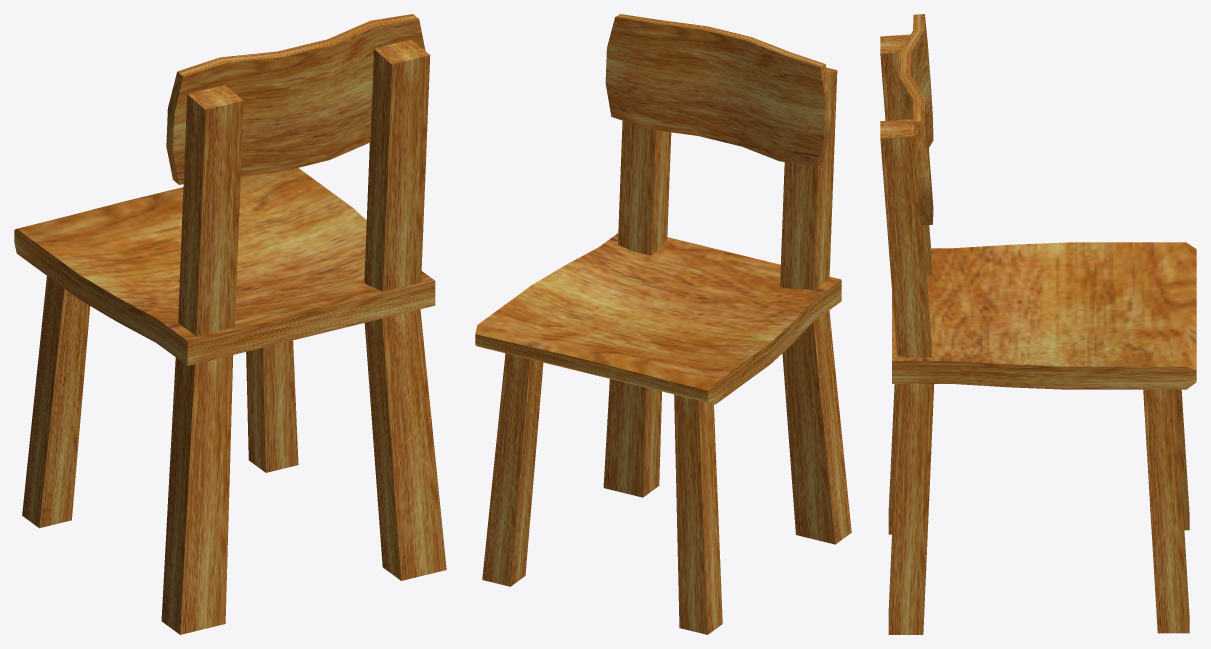
The model's file is stuhl.dae.
3 renders of one model, left to right at view 1: azimuth 30°, elevation 25°; view 2: azimuth 150°, elevation 25°; view 3: azimuth 270°, elevation 25°, orthographic. The views are drawn at different scales.
Parts seen in each view (by area): view 1: Sitzflaeche, Lehne, FussHintenLinks, FussHintenRechts, LehneRechts, LehneLinks, FussVorneLinks, FussVorneRechts; view 2: Sitzflaeche, Lehne, FussHintenLinks, FussVorneLinks, FussVorneRechts, LehneLinks, LehneRechts, FussHintenRechts; view 3: Sitzflaeche, FussHintenRechts, LehneRechts, FussVorneRechts, Lehne, LehneLinks, FussVorneLinks, FussHintenLinks.
Part boxes in pixels (x1,y1,x2,y2): Sitzflaeche: [14, 168, 435, 365]; Lehne: [166, 14, 425, 184]; FussHintenLinks: [161, 355, 233, 634]; FussHintenRechts: [364, 309, 446, 580]; LehneRechts: [364, 39, 430, 291]; LehneLinks: [178, 85, 243, 336]; FussVorneLinks: [22, 276, 90, 528]; FussVorneRechts: [246, 340, 298, 472]; Sitzflaeche: [475, 233, 841, 404]; Lehne: [605, 14, 831, 166]; FussHintenLinks: [782, 310, 851, 544]; FussVorneLinks: [674, 394, 722, 634]; FussVorneRechts: [482, 353, 543, 586]; LehneLinks: [780, 67, 837, 290]; LehneRechts: [618, 121, 671, 255]; FussHintenRechts: [603, 379, 661, 497]; Sitzflaeche: [892, 242, 1196, 389]; FussHintenRechts: [888, 384, 934, 634]; LehneRechts: [880, 119, 931, 357]; FussVorneRechts: [1143, 389, 1189, 633]; Lehne: [899, 14, 933, 225]; LehneLinks: [880, 34, 931, 275]; FussVorneLinks: [1176, 389, 1189, 530]; FussHintenLinks: [888, 384, 898, 534].
Size of the model in its own units: 0.6238 by 1.19 by 0.6706.
